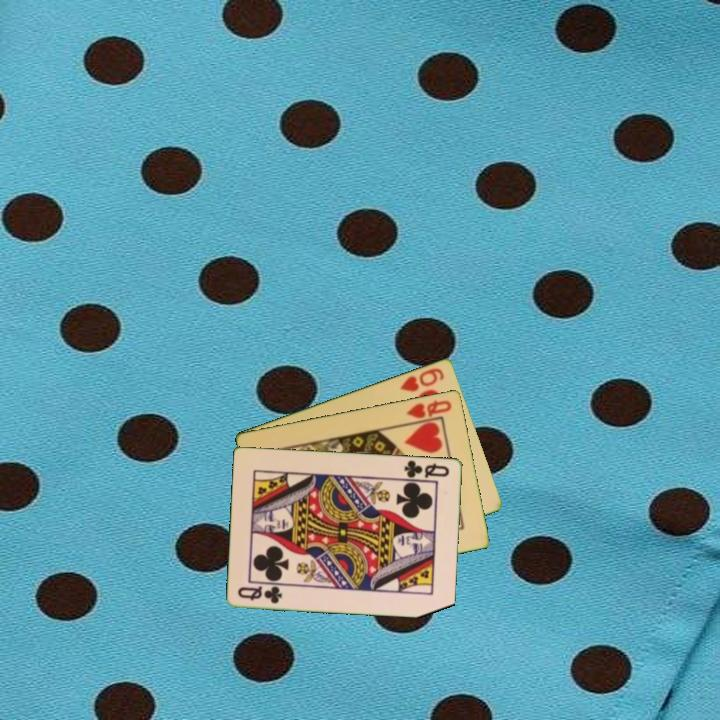6h: (397, 364, 447, 394)
Qc: (401, 456, 452, 481), (235, 582, 285, 606)
Qh: (403, 396, 455, 421)
